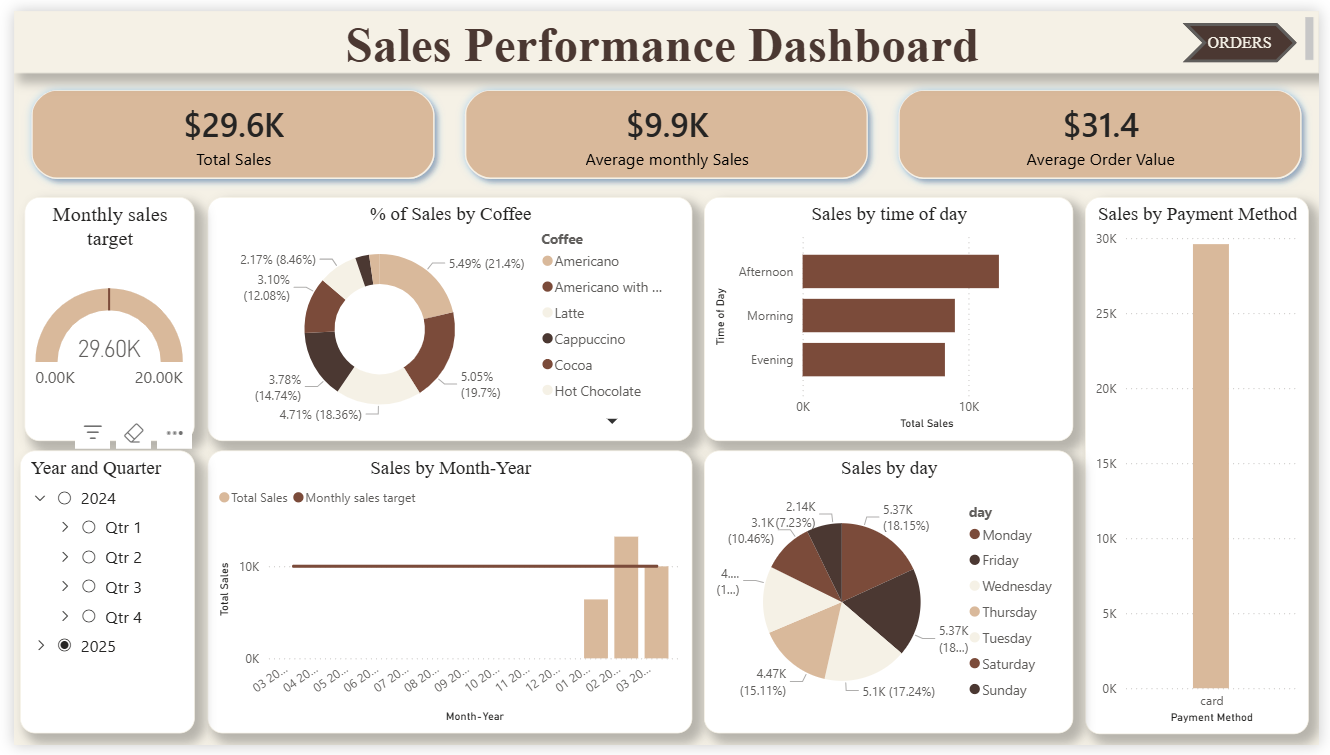

The page's visual inventory and layout, read from the dashboard file:
{"tool":"powerbi","page":{"name":"Sales","canvas":[1280,720],"ordinal":0},"visuals":[{"type":"cardVisual","fields":{"Data":["coffee_sales_clean.Total Sales","coffee_sales_clean.Average monthly Sales","coffee_sales_clean.Average Order Value"]},"box":[0,60.6,1279.5,121.1],"z":0},{"type":"donutChart","title":"% of Sales by Coffee","fields":{"Y":["coffee_sales_clean.% of Total Sales"],"Category":["coffee_sales_clean.coffee_name"]},"box":[189.3,181.7,475.5,239.2],"z":1000},{"type":"barChart","title":"Sales by time of day","fields":{"Y":["coffee_sales_clean.Total Sales"],"Category":["coffee_sales_clean.time_of_day"]},"box":[676.8,181.7,361.9,239.2],"z":2000},{"type":"columnChart","title":"Sales by Payment Method","fields":{"Category":["coffee_sales_clean.payment_method"],"Y":["Sum(coffee_sales_clean.amount)"]},"box":[1049.3,181.7,219.6,526.9],"z":3000},{"type":"lineStackedColumnComboChart","title":"Sales by Month-Year","fields":{"Y":["coffee_sales_clean.Total Sales"],"Y2":["coffee_sales_clean.Monthly sales target"],"Category":["coffee_sales_clean.Month-Year"]},"box":[189.3,431.5,475.5,277.1],"z":4000},{"type":"pieChart","title":"Sales by day","fields":{"Category":["coffee_sales_clean.day"],"Y":["coffee_sales_clean.Total Sales"]},"box":[676.8,431.5,361.9,277.1],"z":5000},{"type":"gauge","title":"Monthly sales target","fields":{"Y":["Sum(coffee_sales_clean.amount)"],"TargetValue":["coffee_sales_clean.Monthly sales target"]},"box":[10.6,181.7,166.6,239.2],"z":6000},{"type":"textbox","title":"Sales Performance Dashboard","box":[0,0,1279.5,60.6],"z":7000},{"type":"listSlicer","fields":{"Values":["coffee_sales_clean.date.Variation.Date Hierarchy.Year","coffee_sales_clean.date.Variation.Date Hierarchy.Quarter","coffee_sales_clean.date.Variation.Date Hierarchy.Month","coffee_sales_clean.date.Variation.Date Hierarchy.Day"]},"box":[6.1,431.5,171.1,277.1],"z":8000},{"type":"actionButton","box":[1146.2,11.5,112.2,38.8],"z":9000}]}

Visuals, with their boxes in screenshot pixels (x1, y1, x2, y2), scaled from the page's 1280x720 canvas onto the 1330x755 screenshot:
cardVisual - coffee_sales_clean.Total Sales x coffee_sales_clean.Average monthly Sales: (x1=0, y1=64, x2=1329, y2=191)
"% of Sales by Coffee" donutChart: (x1=197, y1=191, x2=691, y2=441)
"Sales by time of day" barChart: (x1=703, y1=191, x2=1079, y2=441)
"Sales by Payment Method" columnChart: (x1=1090, y1=191, x2=1318, y2=743)
"Sales by Month-Year" lineStackedColumnComboChart: (x1=197, y1=452, x2=691, y2=743)
"Sales by day" pieChart: (x1=703, y1=452, x2=1079, y2=743)
"Monthly sales target" gauge: (x1=11, y1=191, x2=184, y2=441)
"Sales Performance Dashboard" textbox: (x1=0, y1=0, x2=1329, y2=64)
listSlicer - coffee_sales_clean.date.Variation.Date Hierarchy.Year x coffee_sales_clean.date.Variation.Date Hierarchy.Quarter: (x1=6, y1=452, x2=184, y2=743)
actionButton: (x1=1191, y1=12, x2=1308, y2=53)
